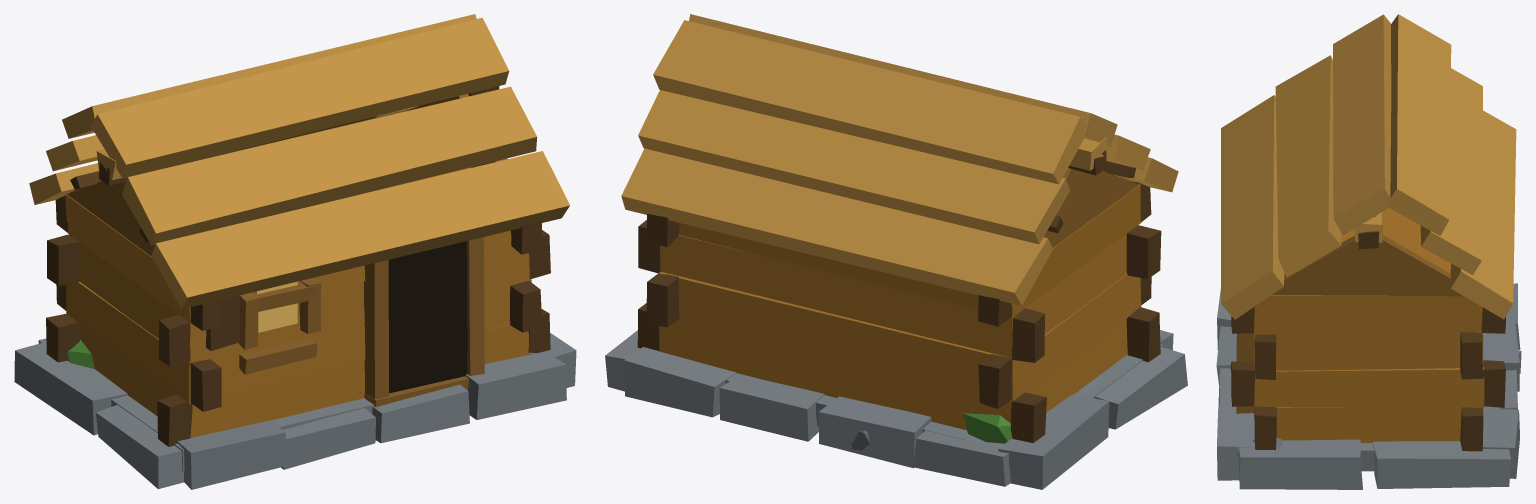
The model's file is hutrect_a.glb.
The picture shows the model from 3 angles, left to right: view 1: azimuth 30°, elevation 25°; view 2: azimuth 150°, elevation 25°; view 3: azimuth 270°, elevation 25°; orthographic projection. The views are drawn at different scales.
Parts seen in each view (by area): view 1: hut_a_roof, hut_a_walls, hut_a_plinth, hut_a_logends, hut_a_door, hut_a_doorframe, hut_a_winframe, hut_a_gable, hut_a_shutter, hut_a_ridge, hut_a_glass; view 2: hut_a_roof, hut_a_walls, hut_a_plinth, hut_a_logends, hut_a_gable, hut_a_bush, hut_a_ridge; view 3: hut_a_roof, hut_a_walls, hut_a_plinth, hut_a_logends, hut_a_gable, hut_a_doorframe, hut_a_ridge.
Part boxes in pixels (x1=…): hut_a_roof: x1=29, y1=14, x2=569, y2=308; hut_a_walls: x1=65, y1=167, x2=531, y2=437; hut_a_plinth: x1=14, y1=333, x2=576, y2=489; hut_a_logends: x1=46, y1=196, x2=550, y2=446; hut_a_door: x1=388, y1=241, x2=467, y2=393; hut_a_doorframe: x1=364, y1=237, x2=484, y2=407; hut_a_winframe: x1=238, y1=277, x2=321, y2=374; hut_a_gable: x1=67, y1=94, x2=507, y2=256; hut_a_shutter: x1=206, y1=295, x2=239, y2=350; hut_a_ridge: x1=70, y1=86, x2=499, y2=242; hut_a_glass: x1=254, y1=281, x2=297, y2=332; hut_a_roof: x1=621, y1=14, x2=1178, y2=305; hut_a_walls: x1=658, y1=184, x2=1141, y2=430; hut_a_plinth: x1=605, y1=330, x2=1187, y2=489; hut_a_logends: x1=637, y1=181, x2=1161, y2=442; hut_a_gable: x1=1044, y1=168, x2=1139, y2=247; hut_a_bush: x1=963, y1=413, x2=1012, y2=443; hut_a_ridge: x1=1047, y1=150, x2=1135, y2=233; hut_a_roof: x1=1221, y1=14, x2=1516, y2=319; hut_a_walls: x1=1254, y1=208, x2=1484, y2=442; hut_a_plinth: x1=1216, y1=283, x2=1520, y2=489; hut_a_logends: x1=1231, y1=307, x2=1505, y2=451; hut_a_gable: x1=1271, y1=235, x2=1463, y2=296; hut_a_doorframe: x1=1236, y1=333, x2=1254, y2=413; hut_a_ridge: x1=1358, y1=216, x2=1379, y2=249.
Size of the model in its own units: 3.24 by 2.35 by 2.17.
